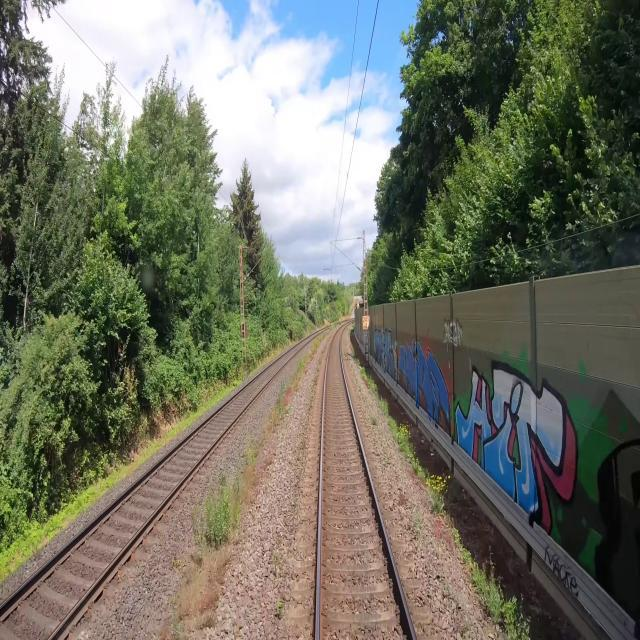Plant: (154, 444, 271, 639), (262, 325, 336, 441), (470, 577, 499, 624), (409, 508, 424, 536), (460, 611, 471, 639), (276, 599, 285, 620), (274, 550, 282, 572), (370, 411, 379, 428), (383, 455, 390, 466)
